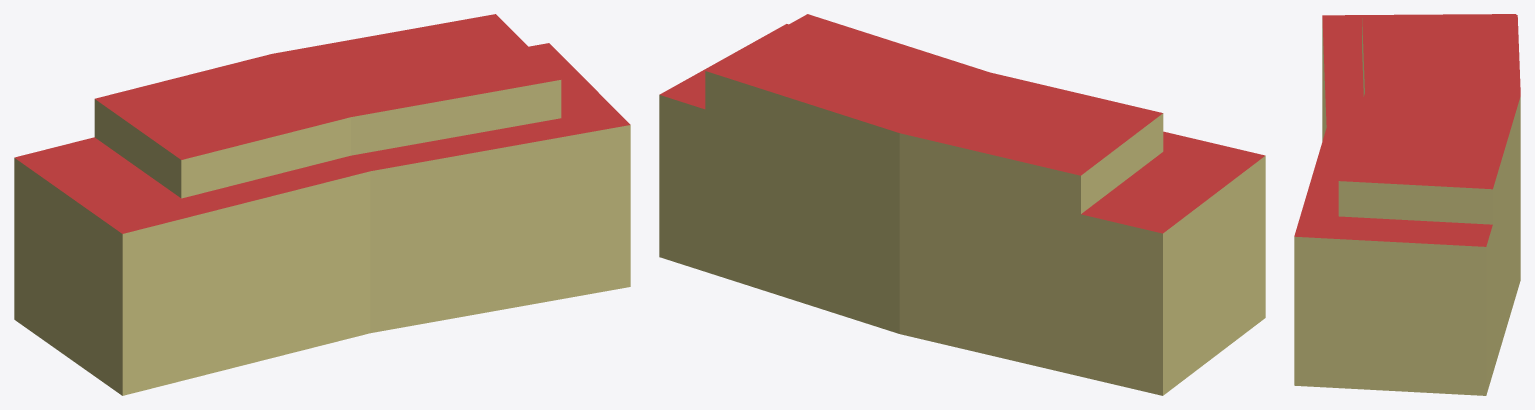
3 views of the same model, side by side, from view 1: azimuth 30°, elevation 25°; view 2: azimuth 150°, elevation 25°; view 3: azimuth 270°, elevation 25° (orthographic). The views are drawn at different scales.
Size of the model in its own units: 40 by 16.45 by 14.77.
